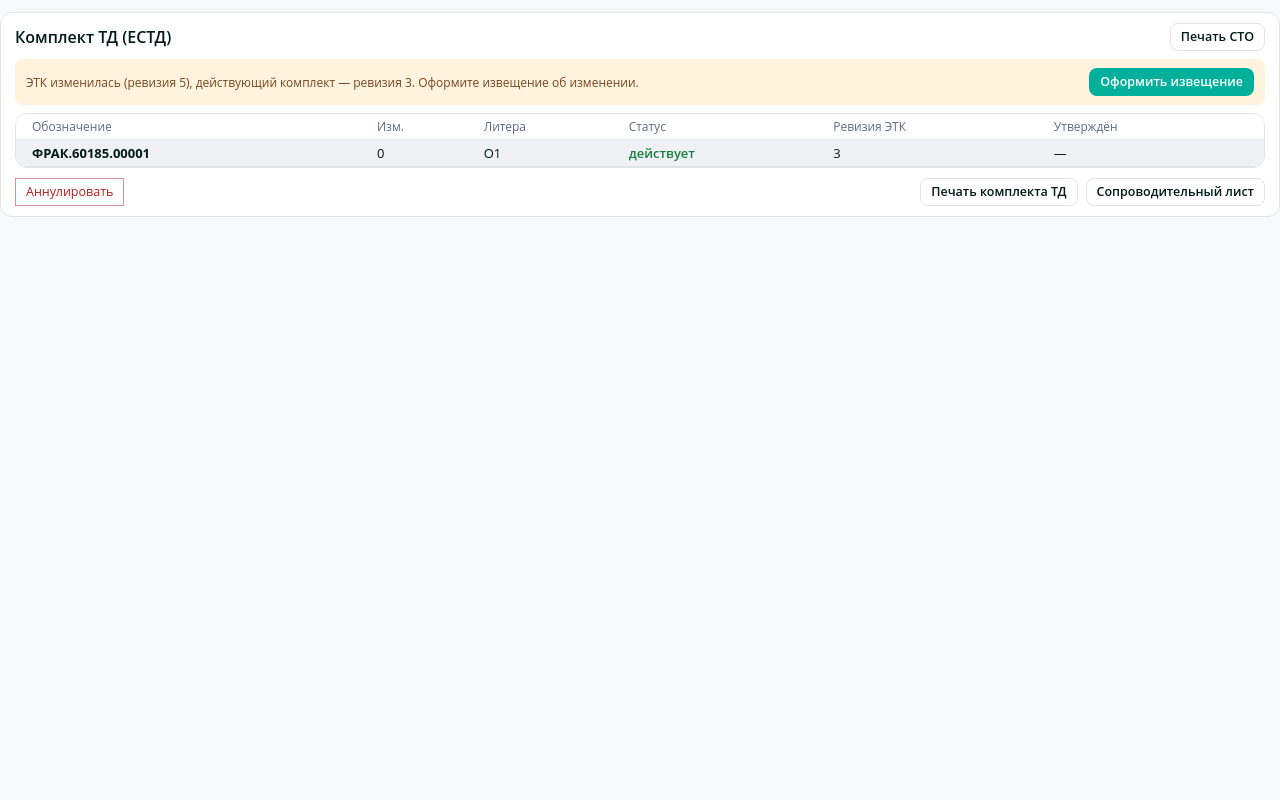
Test: warns when the active kit lags behind the ETK and opens the notice form
The image size is (1280, 800).
expect the text "ЭТК изменилась (ревизия 5), действующий комплект — ревизия 3. Оформите извещение об изменении." is shown: met, box [26,74,639,90]
Click the button "Оформить извещение" at (1172, 82), box [1089,68,1254,96]
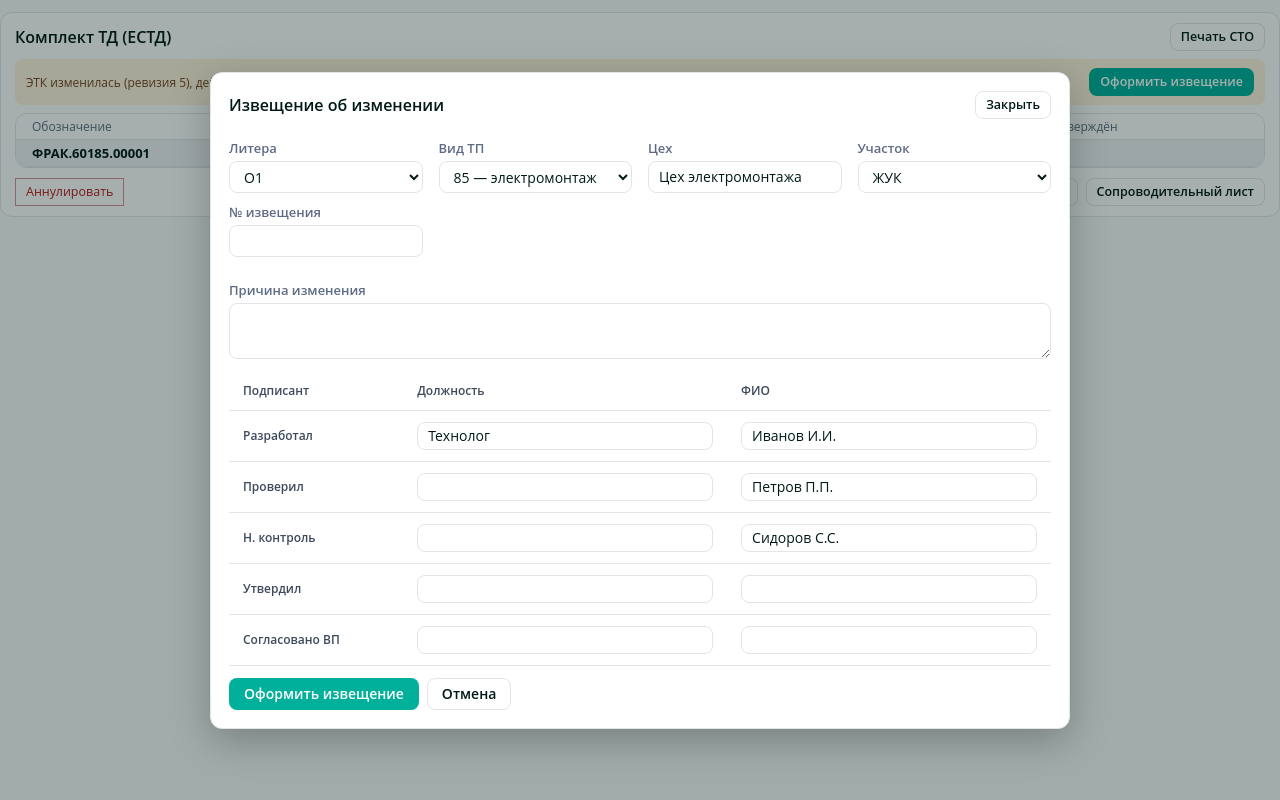
expect the text box labelled "Причина изменения" is shown: met, box [229,302,1051,358]
expect the dialog "Извещение об изменении" is shown: met, box [210,72,1070,728]
